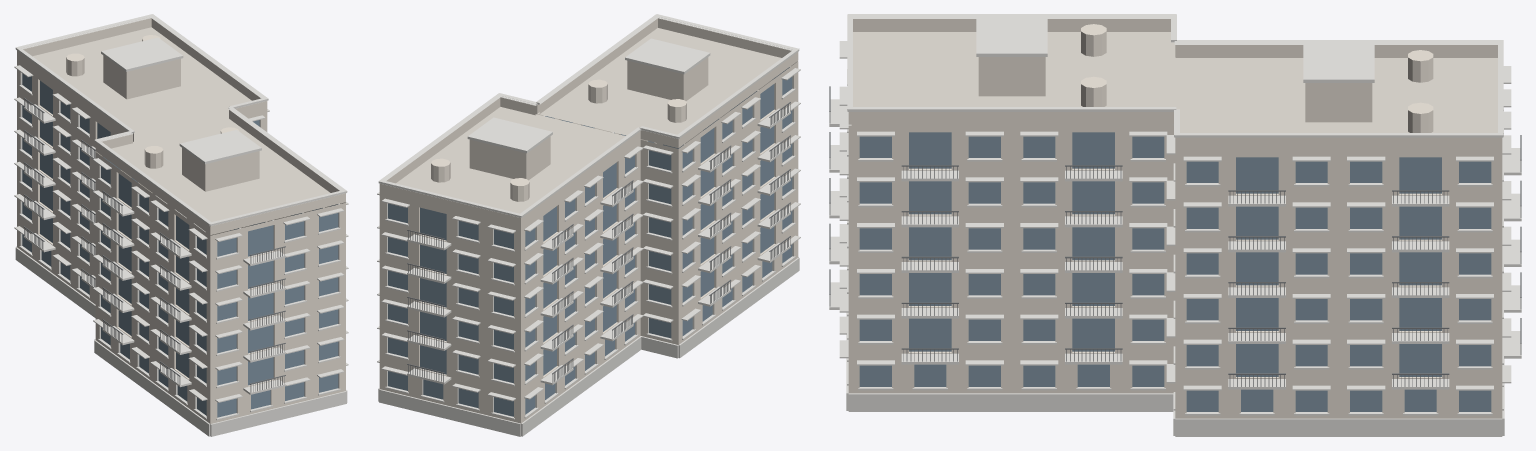
The model's file is Faculty_Residence_1.fbx.
3 renders of one model, left to right at view 1: azimuth 30°, elevation 25°; view 2: azimuth 150°, elevation 25°; view 3: azimuth 270°, elevation 25°, orthographic. The views are drawn at different scales.
Parts seen in each view (by area): view 1: Faculty_Residence_1; view 2: Faculty_Residence_1; view 3: Faculty_Residence_1.
Part boxes in pixels (x1,y1,x2,y2): Faculty_Residence_1: [14, 14, 348, 436]; Faculty_Residence_1: [377, 14, 800, 436]; Faculty_Residence_1: [829, 14, 1521, 436].
Bounding box in the file's own units: 21.6 × 24.51 × 46.6.
